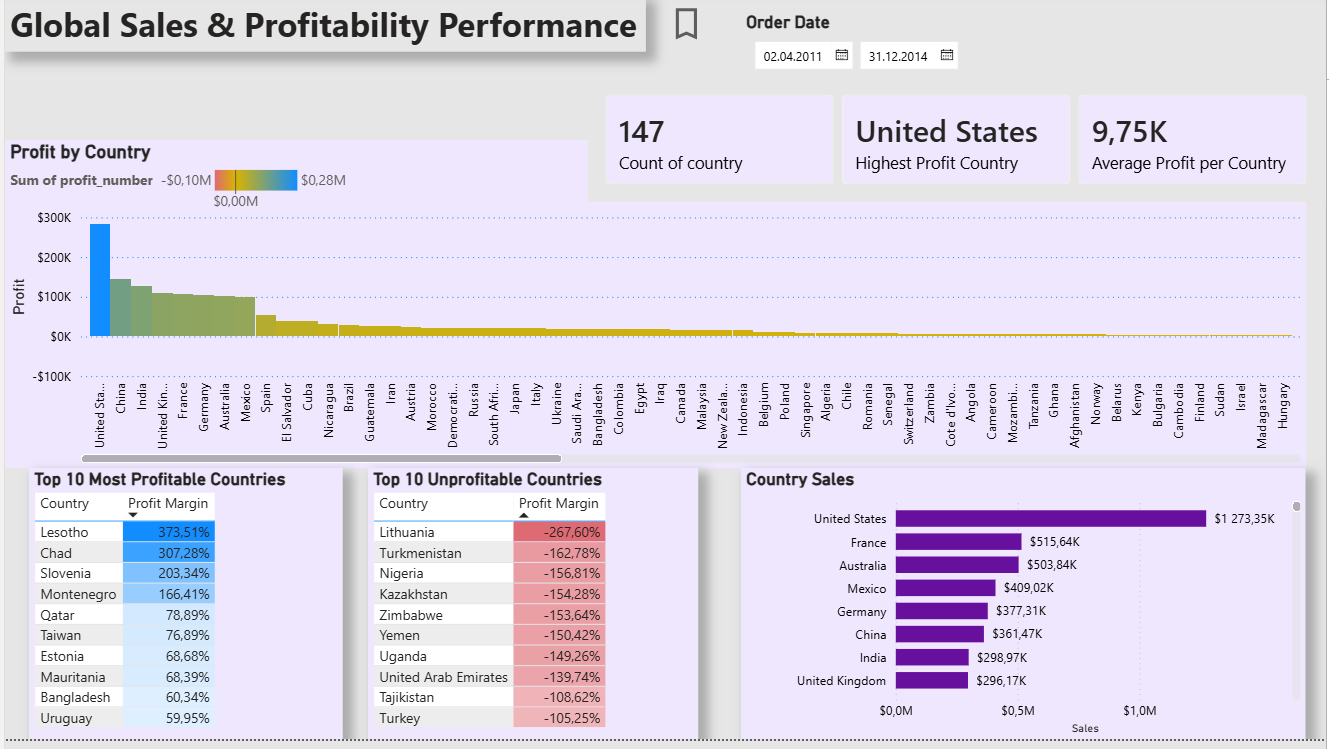

The dashboard page shown, as its layout file describes it:
{"tool":"powerbi","page":{"name":"Global Sales & Profitability Performance","canvas":[1280,720],"ordinal":1},"visuals":[{"type":"columnChart","title":"Profit by Country","fields":{"Category":["SuperStoreOrders.country"],"Y":["Sum(SuperStoreOrders.profit_number)"]},"box":[0,139.5,1260.6,317.8],"z":0},{"type":"barChart","title":"Country Sales","fields":{"Category":["SuperStoreOrders.country"],"Y":["Sum(SuperStoreOrders.sales_number)"]},"box":[713.2,457.4,547.5,262.6],"z":1000},{"type":"tableEx","title":"Top 10 Most Profitable Countries ","fields":{"Values":["SuperStoreOrders.country","select","SuperStoreOrders.Profit Margin"]},"box":[23.3,457.4,304.3,262.6],"z":2000},{"type":"tableEx","title":"Top 10 Unprofitable Countries","fields":{"Values":["SuperStoreOrders.country","select","SuperStoreOrders.Profit Margin"]},"box":[351.7,457.4,319.8,262.6],"z":3000},{"type":"textbox","box":[0,0,621.1,54.3],"z":4000},{"type":"actionButton","box":[640.5,6.8,100.8,39.7],"z":5000},{"type":"cardVisual","fields":{"Data":["Count(SuperStoreOrders.country)","SuperStoreOrders.Highest Profit Country","SuperStoreOrders.Average Profit per Country"]},"box":[564.9,78.5,715.1,121.1],"z":6000},{"type":"slicer","title":"Order Date","fields":{"Values":["SuperStoreOrders.order_date"]},"box":[713.2,14.5,280,64],"z":7000},{"type":"actionButton","box":[1,64,99.9,39.8],"z":7001}]}

Visuals, with their boxes in screenshot pixels (x1, y1, x2, y2), scaled from the page's 1280x720 canvas onto the 1329x749 screenshot:
"Profit by Country" columnChart: crop(0, 145, 1309, 476)
"Country Sales" barChart: crop(741, 476, 1309, 748)
"Top 10 Most Profitable Countries " tableEx: crop(24, 476, 340, 748)
"Top 10 Unprofitable Countries" tableEx: crop(365, 476, 697, 748)
textbox: crop(0, 0, 645, 56)
actionButton: crop(665, 7, 770, 48)
cardVisual - Count(SuperStoreOrders.country) x SuperStoreOrders.Highest Profit Country: crop(587, 82, 1328, 208)
"Order Date" slicer: crop(741, 15, 1031, 82)
actionButton: crop(1, 67, 105, 108)
